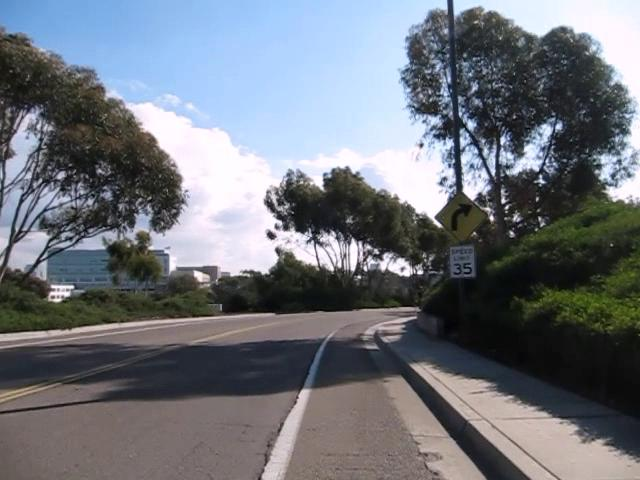speedLimit35: (448, 244, 476, 279)
